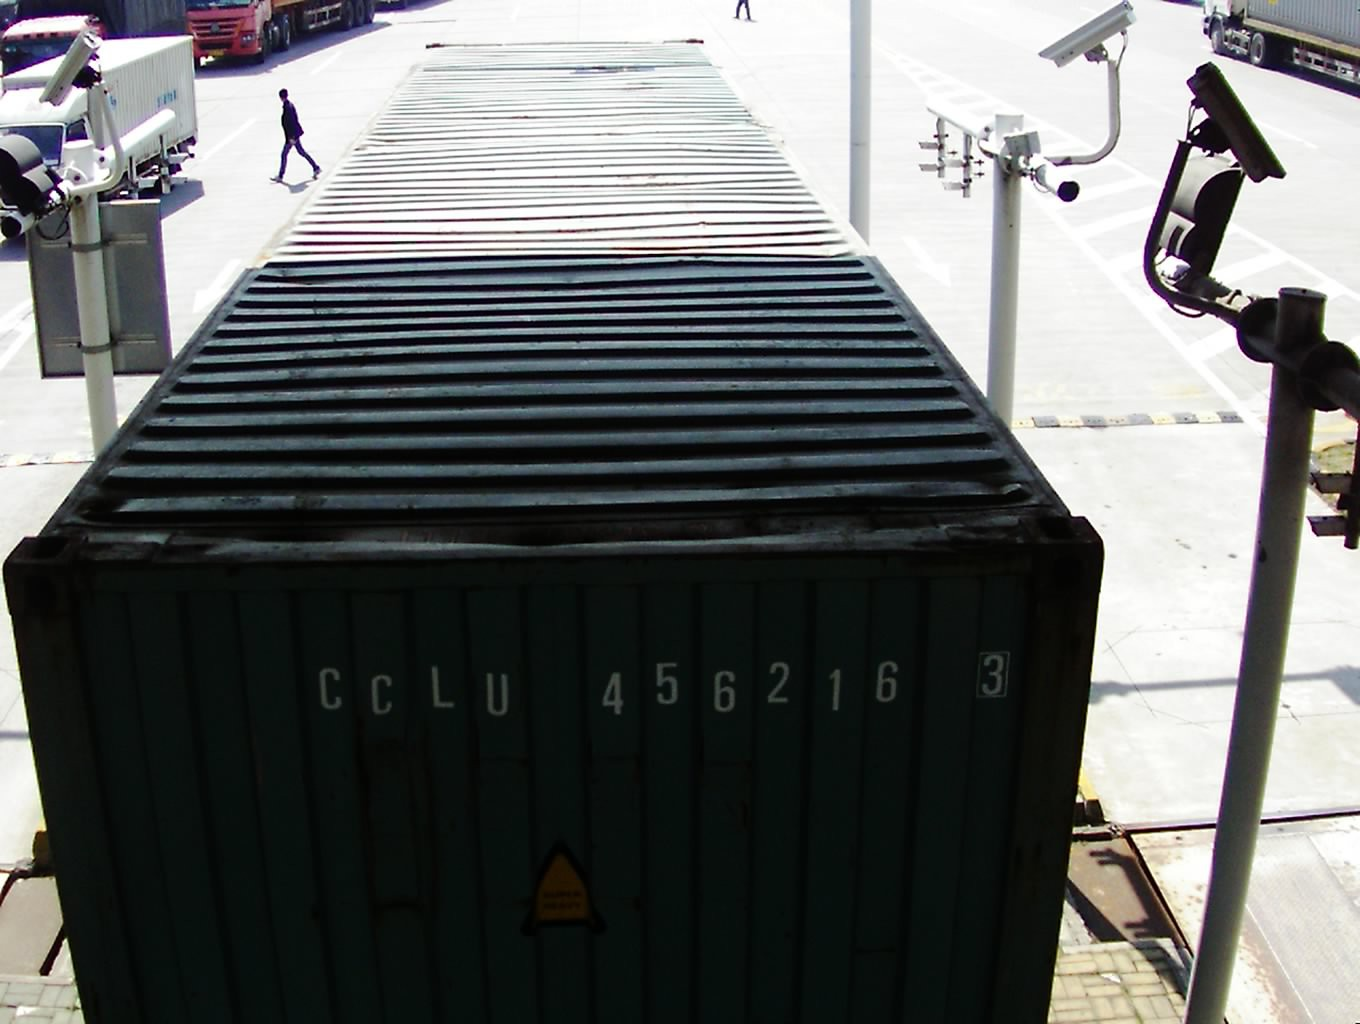words: (298, 645, 1015, 720)
